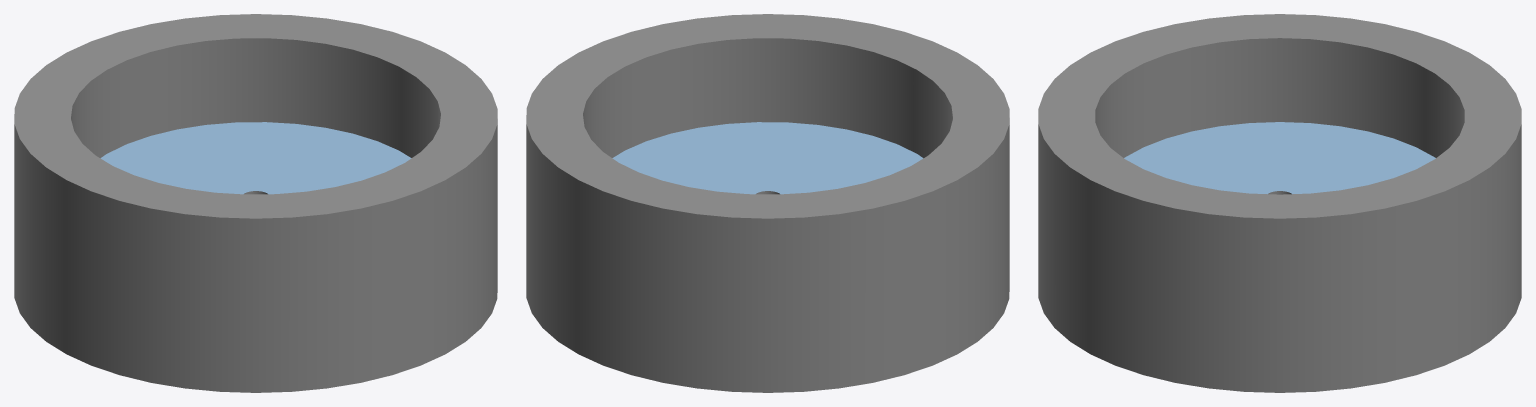
The model's file is bentobot-wheel.dae.
3 views of the same model, side by side, from view 1: azimuth 30°, elevation 25°; view 2: azimuth 150°, elevation 25°; view 3: azimuth 270°, elevation 25° (orthographic).
Visible parts, largest first — view 1: ID2; view 2: ID2; view 3: ID2.
Boxes of the visible parts, x1,y1,x2,y2 form: ID2: (14,14,497,392); ID2: (526,14,1009,392); ID2: (1038,14,1521,392).
Bounding box in the file's own units: 0.068 × 0.0678 × 0.027.
